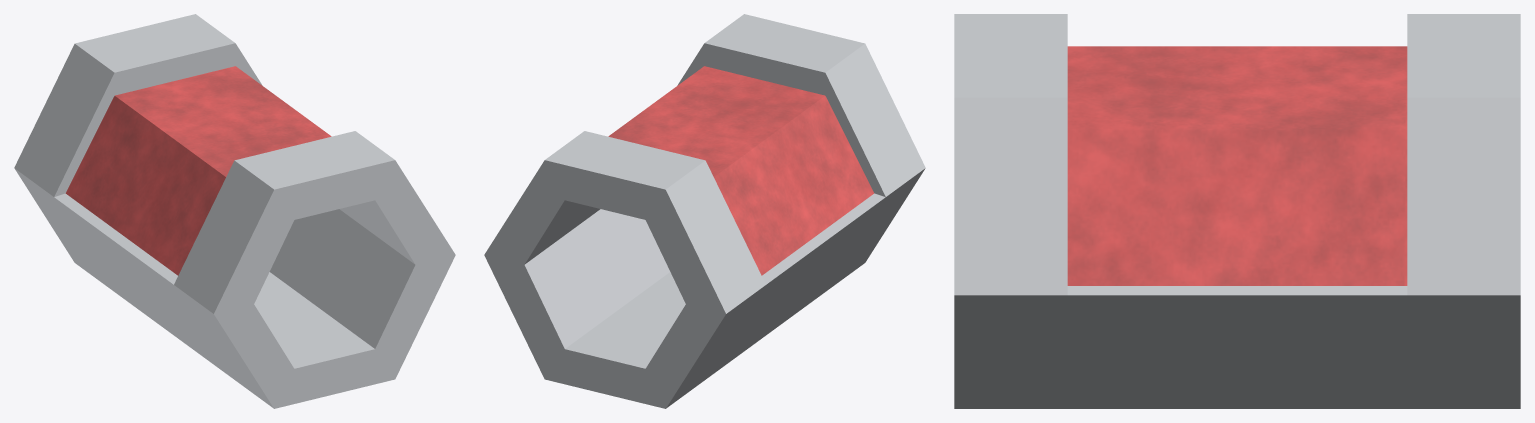
The model's file is Lava_Pipe.fbx.
3 views of the same model, side by side, from view 1: azimuth 30°, elevation 25°; view 2: azimuth 150°, elevation 25°; view 3: azimuth 270°, elevation 25° (orthographic). The views are drawn at different scales.
Visible parts, largest first — view 1: Lava_Pipe_body; view 2: Lava_Pipe_body; view 3: Lava_Pipe_body.
Boxes of the visible parts, x1,y1,x2,y2 form: Lava_Pipe_body: [14, 14, 455, 408]; Lava_Pipe_body: [484, 14, 925, 408]; Lava_Pipe_body: [954, 14, 1520, 408].
Size of the model in its own units: 70 by 60.62 by 100.
